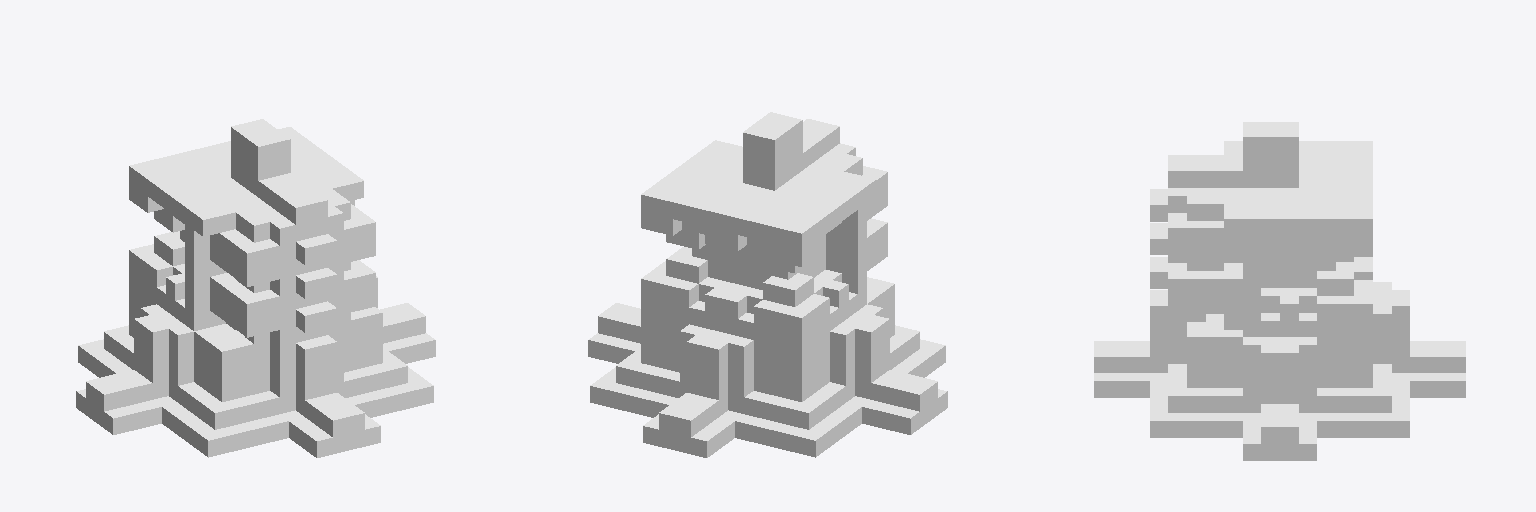
The model's file is Fire_Heavy_Base.obj.
The picture shows the model from 3 angles: view 1: azimuth 30°, elevation 25°; view 2: azimuth 150°, elevation 25°; view 3: azimuth 270°, elevation 25°; orthographic projection.
Visible parts, largest first — view 1: Fire_Heavy_Base; view 2: Fire_Heavy_Base; view 3: Fire_Heavy_Base.
Part boxes in pixels (left/top/right/bottom): Fire_Heavy_Base: left=76, top=119, right=435, bottom=457; Fire_Heavy_Base: left=588, top=112, right=947, bottom=457; Fire_Heavy_Base: left=1094, top=122, right=1465, bottom=460.
Bounding box in the file's own units: 20 × 15 × 20.